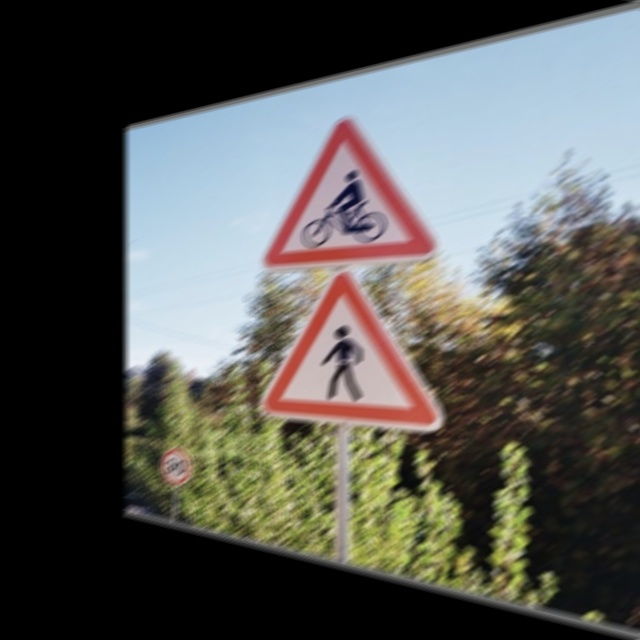Cycle_Crossing: (266, 94, 441, 269)
